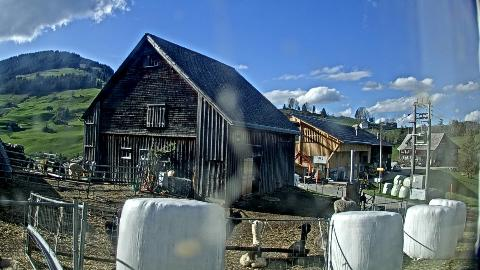car: (392, 164, 402, 172), (418, 161, 426, 167)
sheep: (241, 220, 268, 268), (286, 222, 312, 266), (226, 208, 243, 242), (104, 220, 118, 252), (334, 197, 356, 214), (69, 163, 91, 179), (315, 231, 329, 251), (52, 161, 66, 175), (24, 157, 38, 171), (252, 175, 262, 191), (41, 158, 49, 174), (360, 196, 366, 208), (252, 175, 256, 181)
